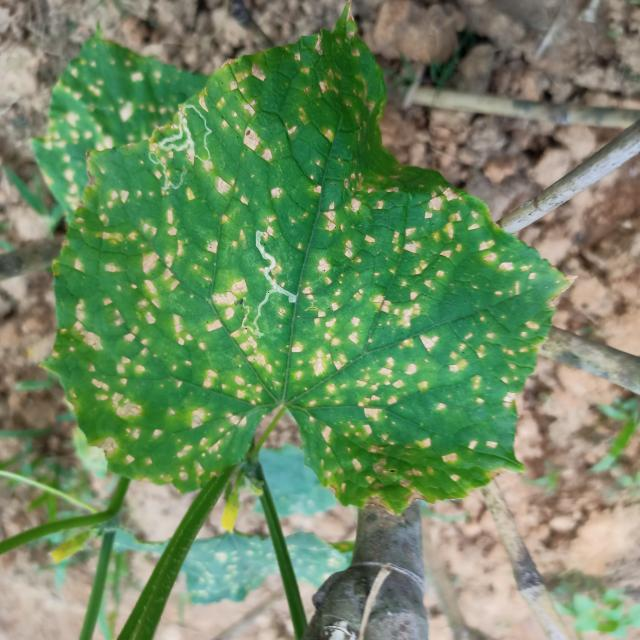disease_cucumber: (80, 42, 520, 481)
